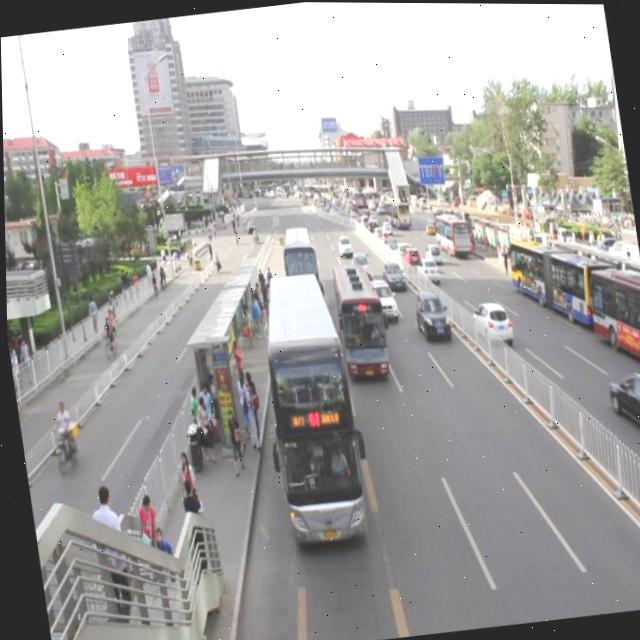car: (409, 284, 451, 345), (363, 270, 399, 323), (376, 258, 409, 294), (345, 247, 374, 281), (332, 230, 353, 259)
van: (243, 265, 378, 557), (323, 256, 396, 390), (273, 220, 325, 301)
